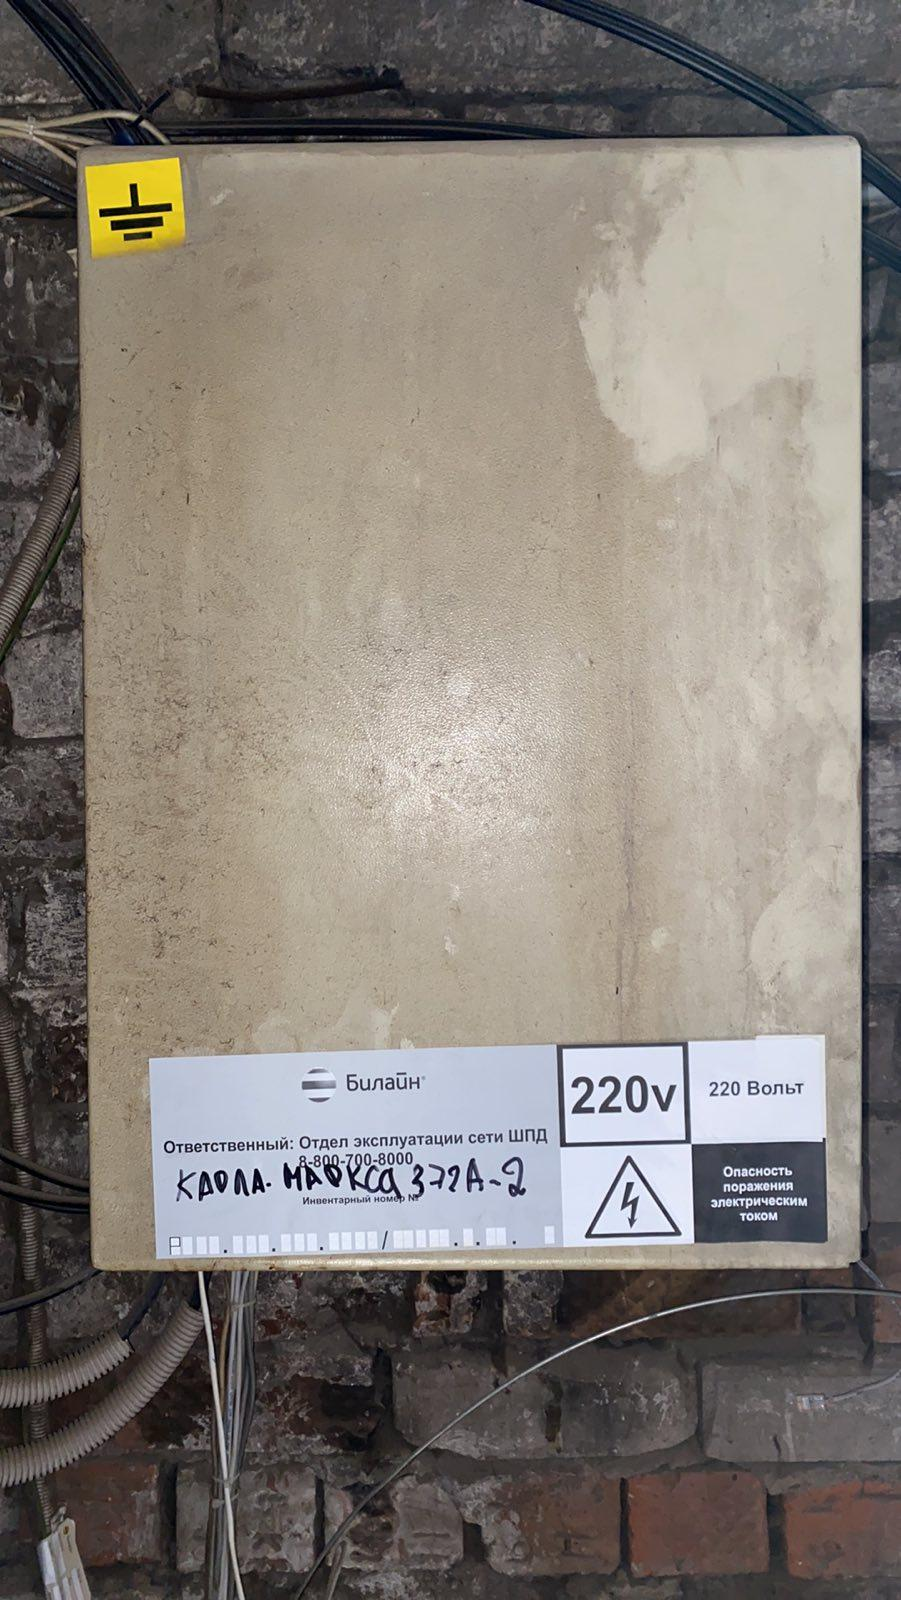sv-5: (71, 126, 870, 1281)
